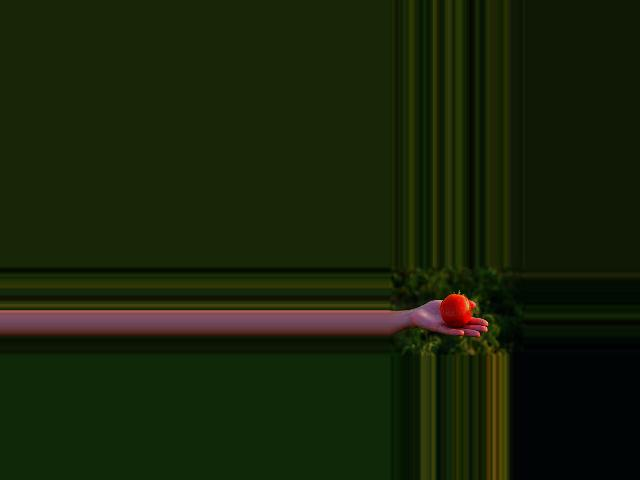tomato: (441, 294, 471, 328)
